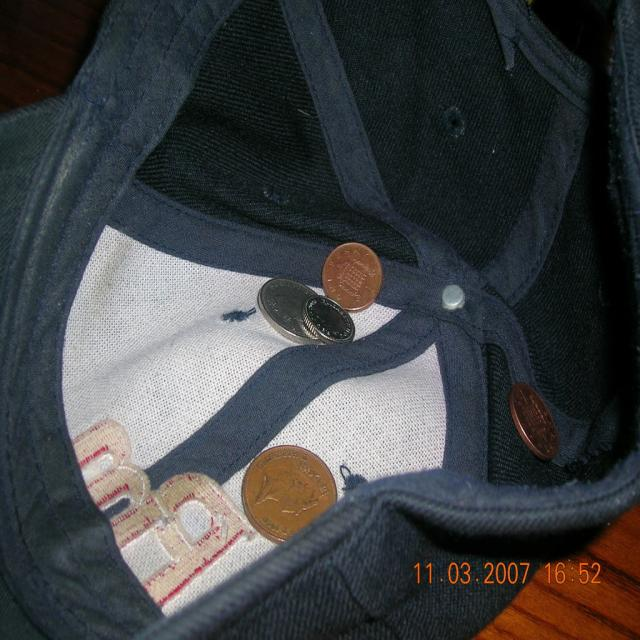Coin: (239, 444, 336, 545), (322, 241, 384, 313), (255, 273, 315, 342), (512, 379, 560, 459), (302, 293, 356, 344)
